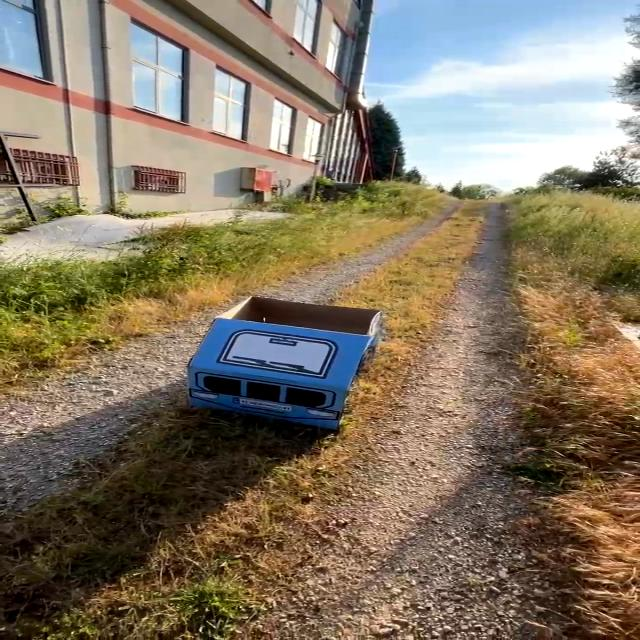blue_car: (128, 267, 435, 499)
